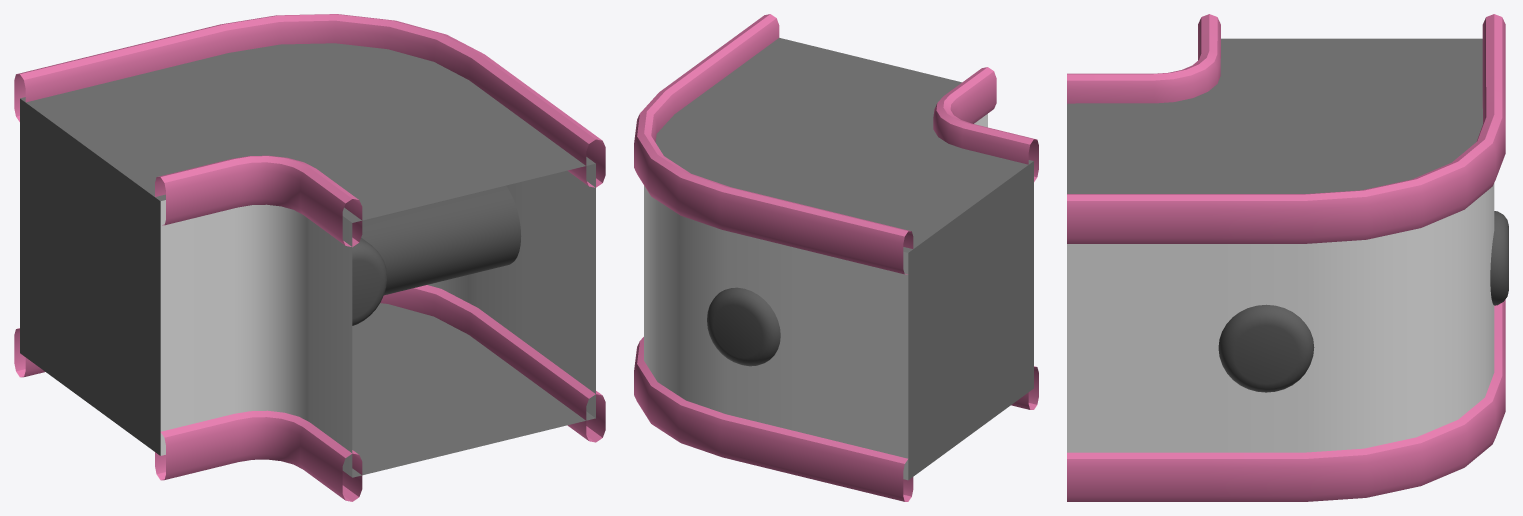
File: parca8.fbx
3 renders of one model, left to right at view 1: azimuth 30°, elevation 25°; view 2: azimuth 150°, elevation 25°; view 3: azimuth 270°, elevation 25°, orthographic. The views are drawn at different scales.
Parts seen in each view (by area): view 1: 8; view 2: 8; view 3: 8.
Part boxes in pixels (box(x1,y1,x2,y2)): 8: box(14, 14, 605, 501); 8: box(634, 14, 1038, 501); 8: box(1067, 14, 1508, 501).
Bounding box in the file's own units: 3.11 × 2.38 × 3.1.
